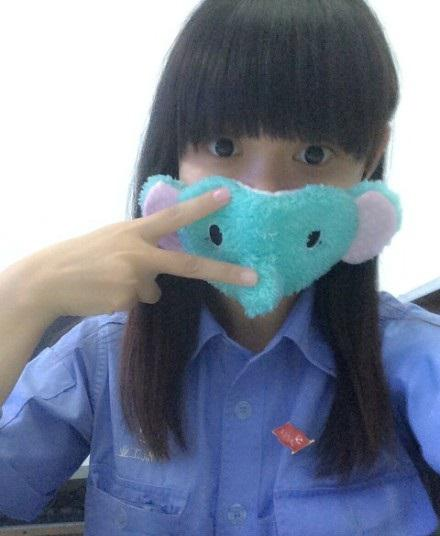OK: (184, 113, 358, 287)
